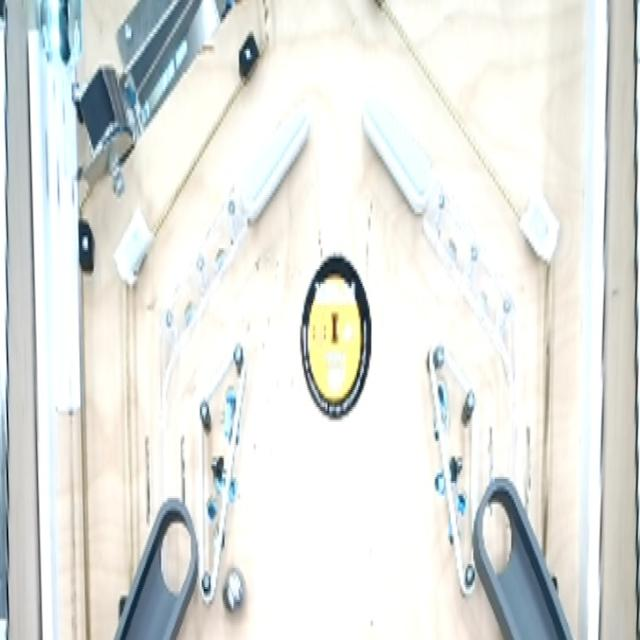ball: (221, 563, 249, 629)
flipper-left: (360, 103, 437, 220)
flipper-right: (237, 97, 312, 234)
